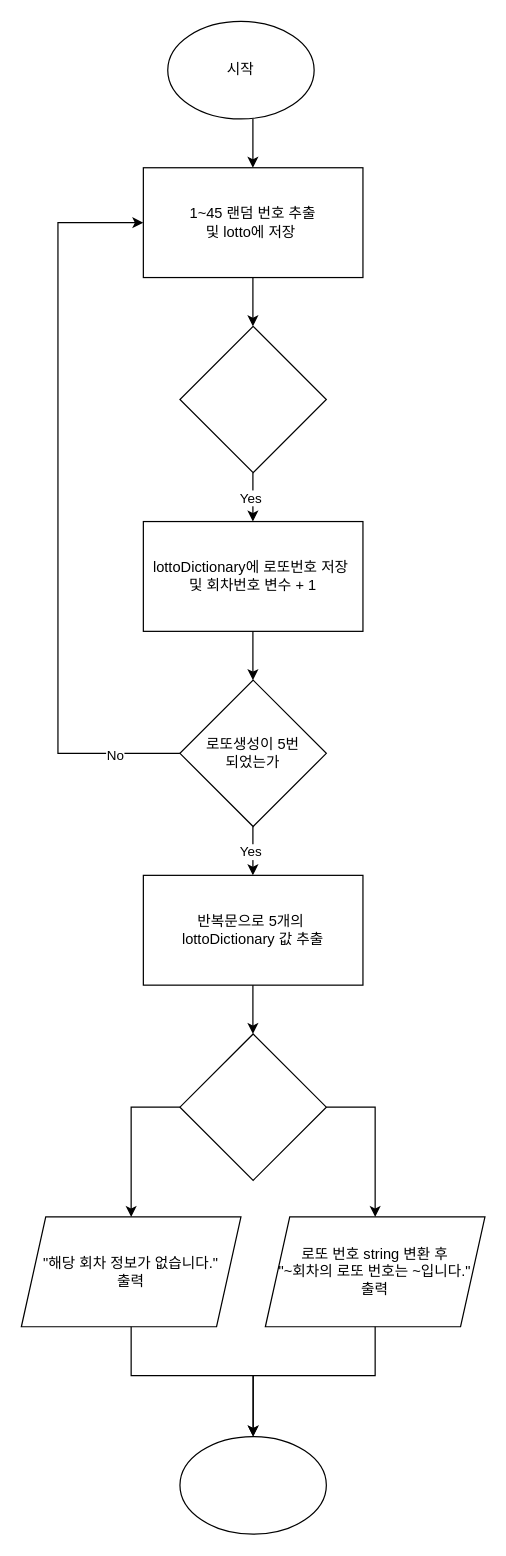
Image size: 506x1556. Some labels were removed from this diagram. The shapes that lost their labels are listed below. From the top down, each one's centre as x and y in pixels, then its label:
At pixel 252 399: "lotto의 count가 6인가?".
At pixel 252 1106: "회차 정보 유무".
At pixel 252 1484: "종료".
